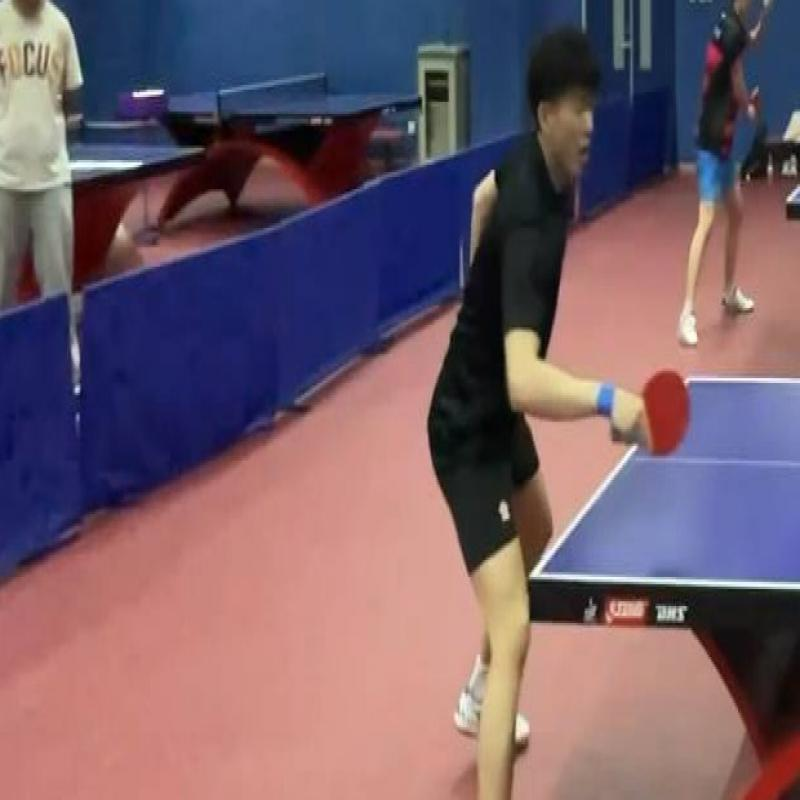bats: (628, 359, 697, 468)
